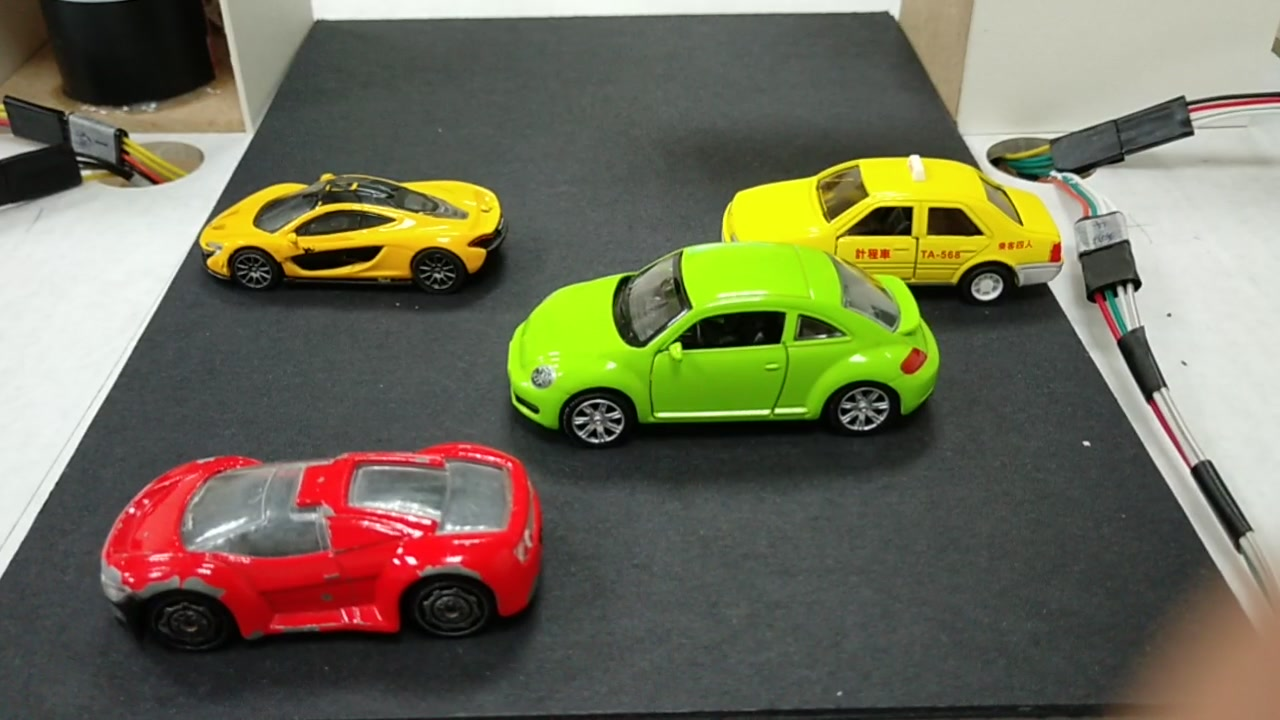car: (111, 452, 546, 627), (503, 273, 931, 431), (714, 152, 1063, 291), (204, 169, 503, 291)
